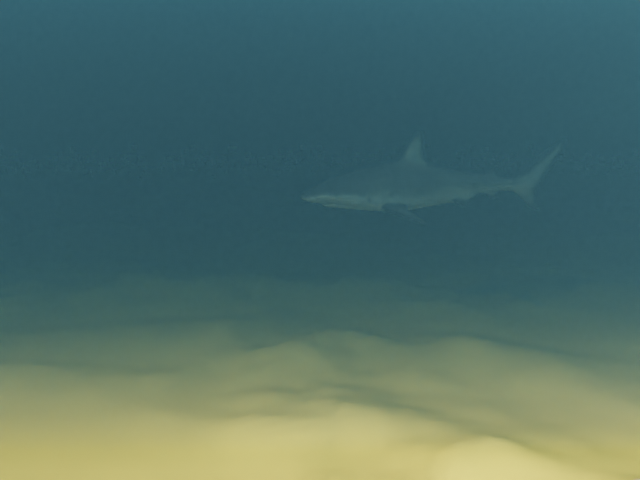Carribean Shark.001: (300, 133, 565, 224)
